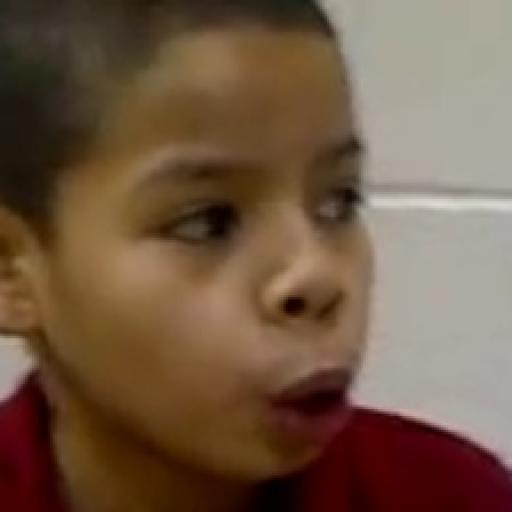Autism: (9, 19, 470, 468)
